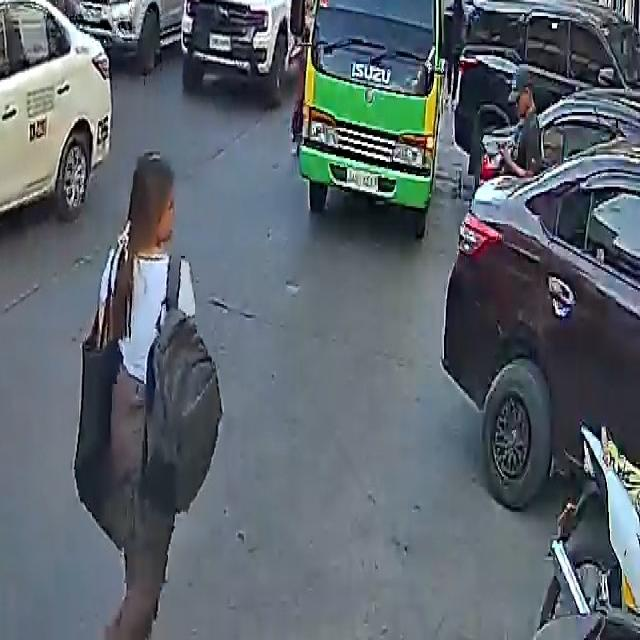car: (444, 112, 640, 521), (0, 0, 113, 254), (181, 0, 310, 94), (67, 0, 202, 68)
